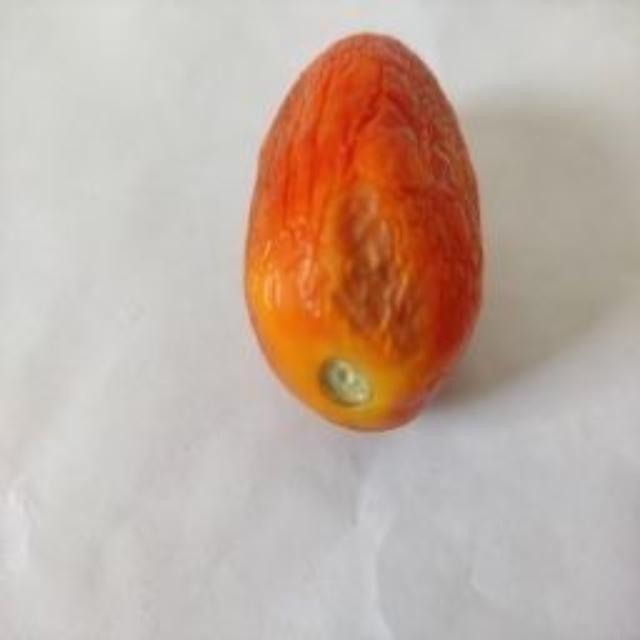defect: (236, 30, 488, 439)
